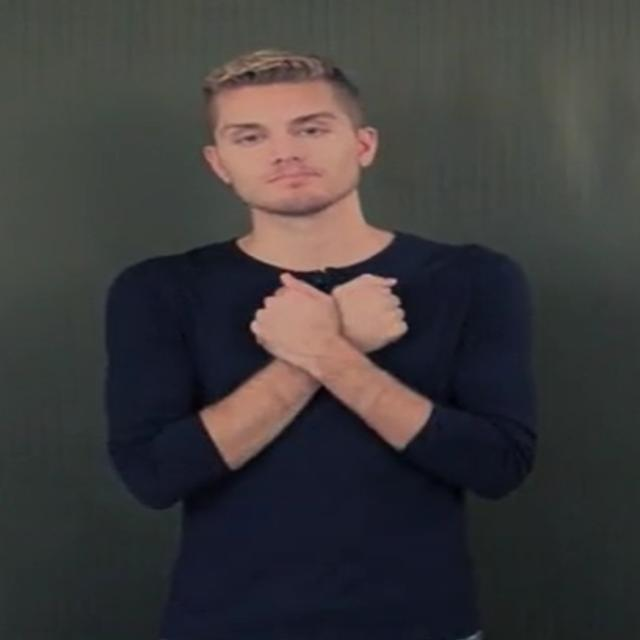love: (251, 272, 409, 374)
